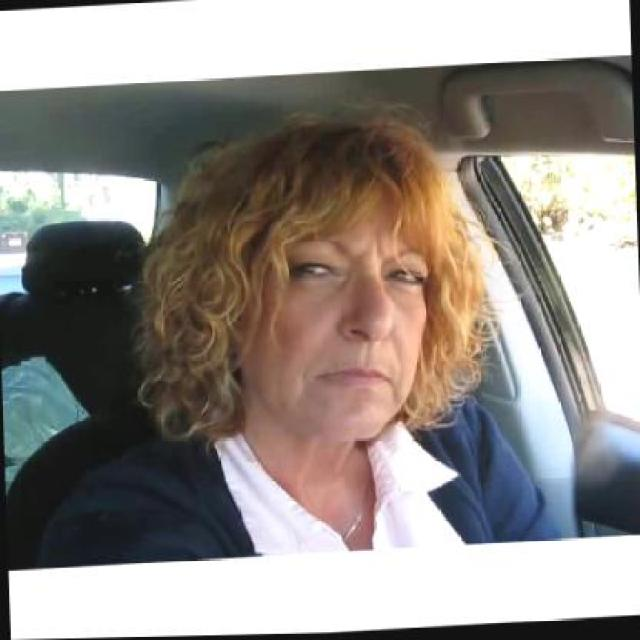attentif: (224, 112, 433, 450)
